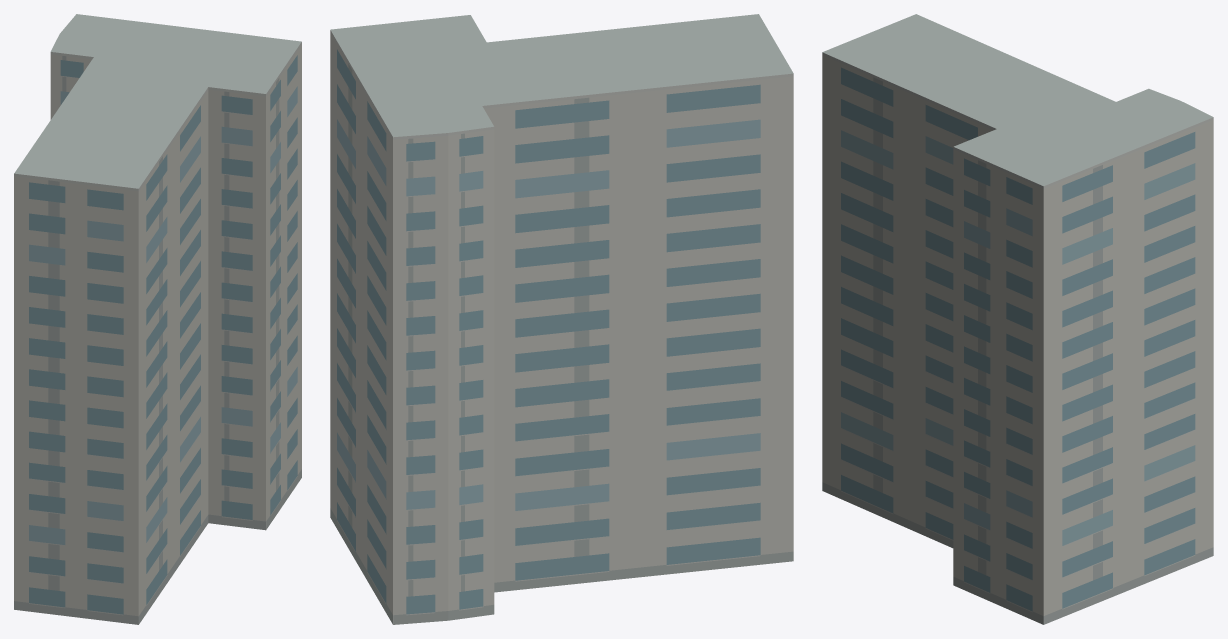
Rendered from residential-42a22a69-184d-4920-867b-d07948e71e88.glb.
The picture shows the model from 3 angles, left to right: view 1: azimuth 30°, elevation 25°; view 2: azimuth 150°, elevation 25°; view 3: azimuth 270°, elevation 25°; orthographic projection. The views are drawn at different scales.
Parts seen in each view (by area): view 1: residential-42a22a69-184d-4920-867b-d07948e71e88.tmp; view 2: residential-42a22a69-184d-4920-867b-d07948e71e88.tmp; view 3: residential-42a22a69-184d-4920-867b-d07948e71e88.tmp.
Part boxes in pixels (<box>): residential-42a22a69-184d-4920-867b-d07948e71e88.tmp: <box>14,14,301,624</box>; residential-42a22a69-184d-4920-867b-d07948e71e88.tmp: <box>330,14,793,624</box>; residential-42a22a69-184d-4920-867b-d07948e71e88.tmp: <box>822,14,1213,624</box>.
Bounding box in the file's own units: 35.4 × 42 × 33.98.
